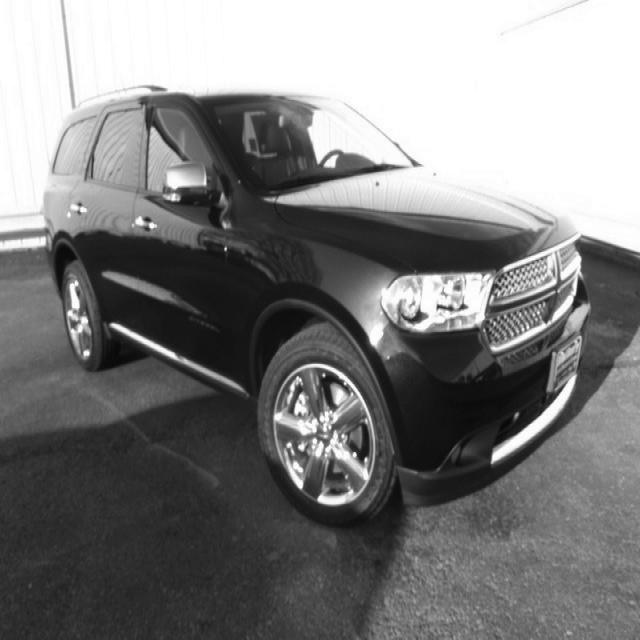car: (40, 83, 591, 528)
